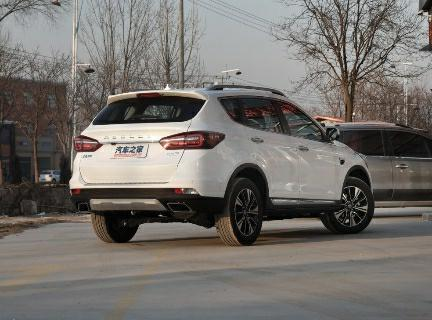car: (60, 67, 387, 253)
